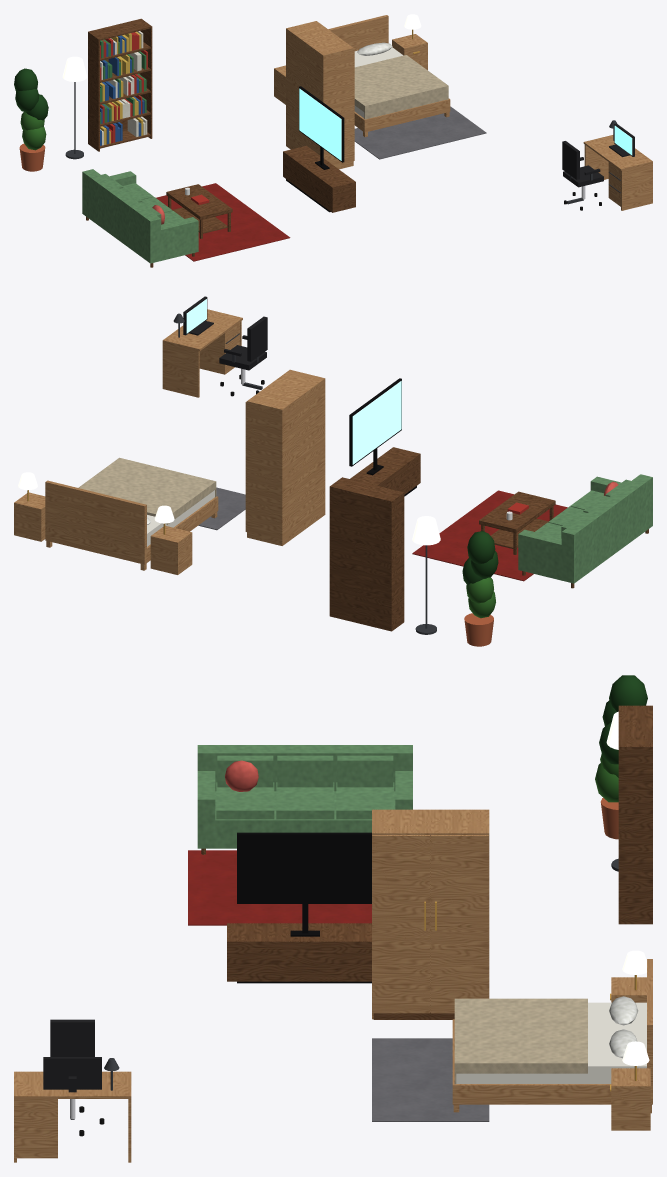
Rendered from i_hobbit_hole.gltf.
3 views of the same model, one above another, from view 1: azimuth 30°, elevation 25°; view 2: azimuth 150°, elevation 25°; view 3: azimuth 270°, elevation 25° (orthographic). The views are drawn at different scales.
Parts seen in each view (by area): view 1: I_hobbit_hole; view 2: I_hobbit_hole; view 3: I_hobbit_hole.
Boxes of the visible parts, bbox=[...] form: I_hobbit_hole: bbox=[14, 14, 652, 267]; I_hobbit_hole: bbox=[14, 296, 652, 646]; I_hobbit_hole: bbox=[14, 675, 652, 1162].
Size of the model in its own units: 8.29 by 2.1 by 6.54.
Materials: 27 (9 with a texture image).
